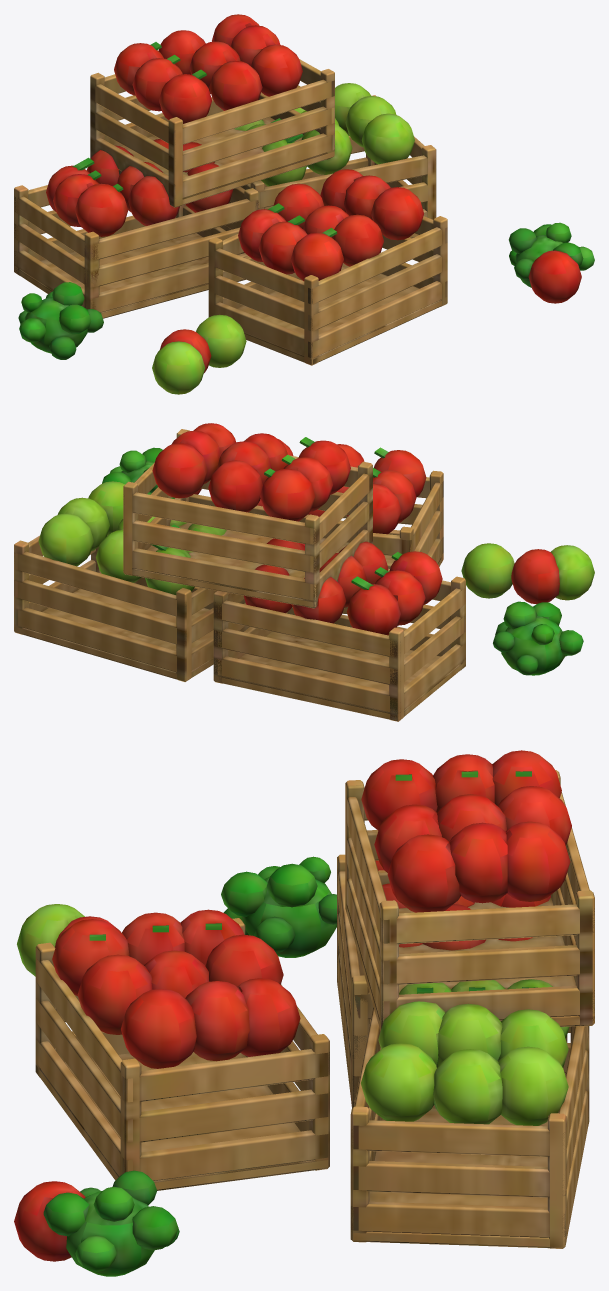
File: apple_crates.glb
3 views of the same model, one above another, from view 1: azimuth 30°, elevation 25°; view 2: azimuth 150°, elevation 25°; view 3: azimuth 270°, elevation 25° (orthographic). The views are drawn at different scales.
Visible parts, largest first — view 1: apple_crates; view 2: apple_crates; view 3: apple_crates.
Boxes of the visible parts, x1,y1,x2,y2 form: apple_crates: (14,14,594,394); apple_crates: (14,423,594,721); apple_crates: (14,750,594,1276).
Size of the model in its own units: 1 by 0.3943 by 0.6474.
Materials: 1 (1 with a texture image).
